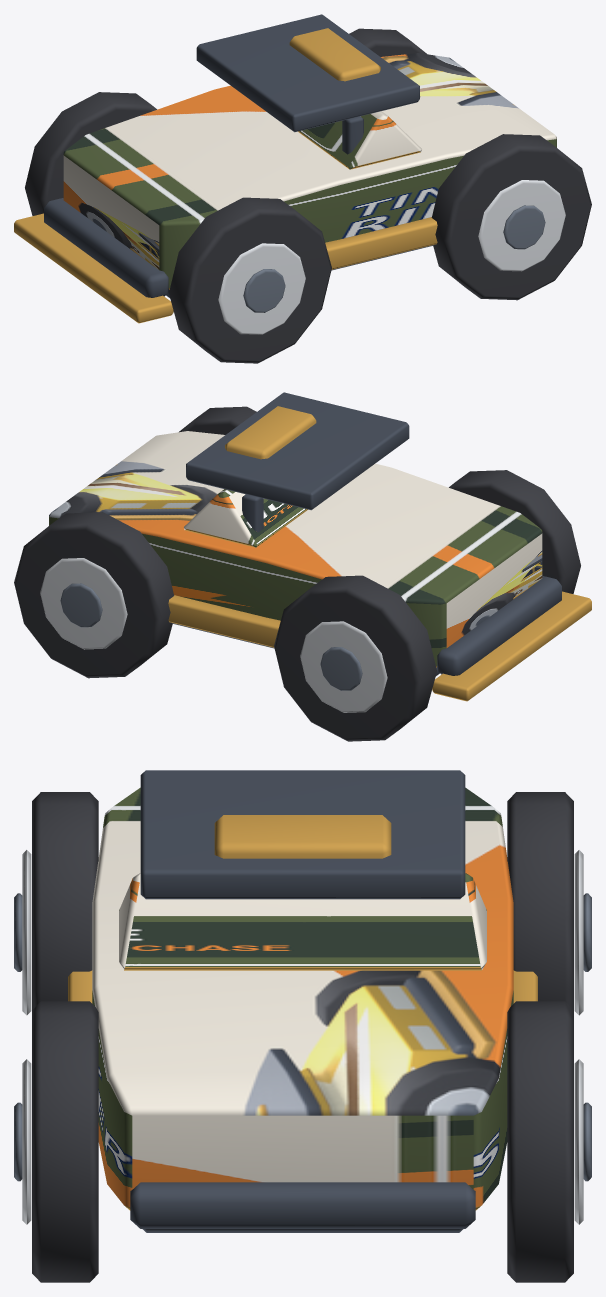
3 views of the same model, one above another, from view 1: azimuth 30°, elevation 25°; view 2: azimuth 150°, elevation 25°; view 3: azimuth 270°, elevation 25° (orthographic). The views are drawn at different scales.
Parts seen in each view (by area): view 1: DP-03_connected_shell, Tire, Tire.002, cage top, Tire.001, Rim, Rim.002, custom chin, front bumper, DP-03_cabin, custom side guard, custom equipment (+4 smaller); view 2: DP-03_connected_shell, Tire.001, Tire.003, cage top, Tire, Rim.001, Rim.003, custom chin, front bumper, DP-03_cabin, custom side guard.001, custom equipment (+4 smaller); view 3: DP-03_connected_shell, cage top, DP-03_cabin, Tire.002, Tire.003, rear bumper, Tire, Tire.001, custom equipment, Rim.002, Rim.003, Rim (+8 smaller).
Boxes of the visible parts, x1,y1,x2,y2 form: DP-03_connected_shell: (63,53,556,289); Tire: (169,197,331,363); Tire.002: (431,134,591,300); cage top: (196,14,419,132); Tire.001: (25,92,156,215); Rim: (218,243,305,334); Rim.002: (478,180,565,271); custom chin: (14,213,173,323); front bumper: (44,198,169,297); DP-03_cabin: (298,111,421,169); custom side guard: (325,217,437,269); custom equipment: (289,28,380,81); DP-03_connected_shell: (49,431,542,667); Tire.001: (274,575,436,741); Tire.003: (14,512,174,678); cage top: (186,392,409,510); Tire: (449,470,580,593); Rim.001: (300,621,387,712); Rim.003: (40,558,127,649); custom chin: (432,591,591,701); front bumper: (436,576,561,675); DP-03_cabin: (184,489,307,547); custom side guard.001: (168,595,280,647); custom equipment: (225,406,316,459); DP-03_connected_shell: (92,787,513,1210); cage top: (140,770,465,899); DP-03_cabin: (119,873,486,970); Tire.002: (32,1001,98,1282); Tire.003: (507,1001,573,1282); rear bumper: (130,1182,475,1228); Tire: (32,792,98,1009); Tire.001: (507,792,573,1009); custom equipment: (214,815,391,858); Rim.002: (22,1059,31,1224); Rim.003: (574,1059,583,1224); Rim: (22,850,31,1015).
Bounding box in the file's own units: 329 × 154 × 225.
